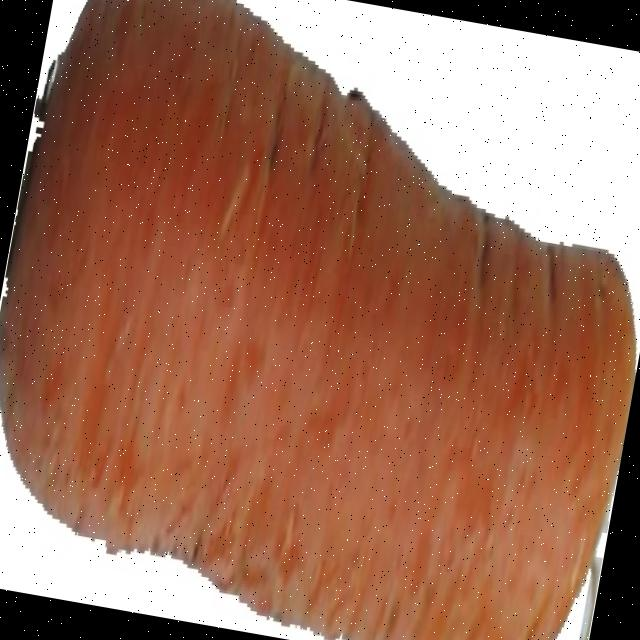carrot: (0, 0, 634, 640)
